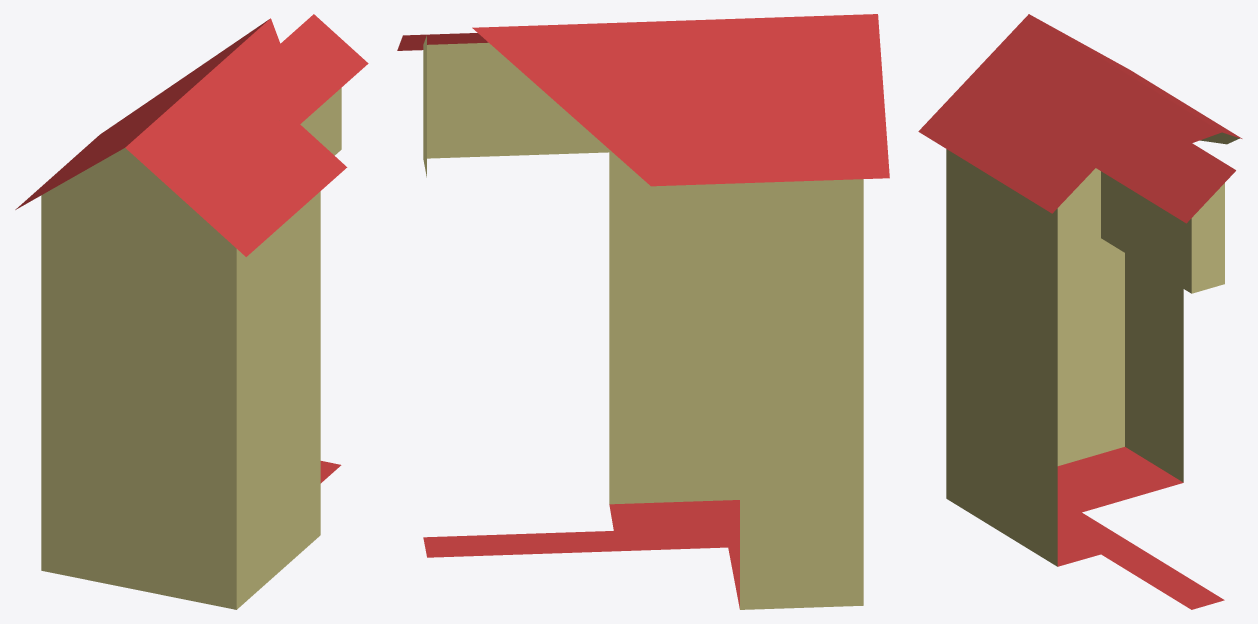
The picture shows the model from 3 angles, left to right: view 1: azimuth 30°, elevation 25°; view 2: azimuth 150°, elevation 25°; view 3: azimuth 270°, elevation 25°; orthographic projection. The views are drawn at different scales.
Size of the model in its own units: 10.92 by 8.03 by 12.26.
